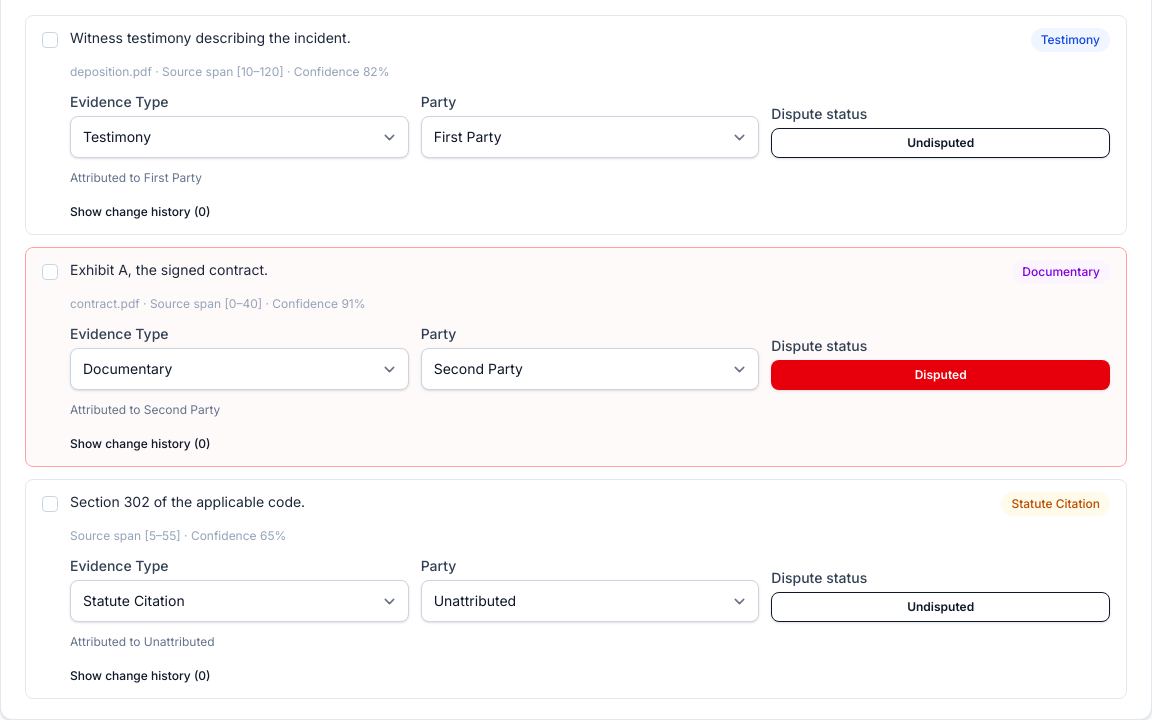
EvidenceReviewPanel › reassigns a segment to a different party
(page scrolled)
Select "First Party" in the dropdown labelled "Party" below "55" at (590, 601), box [421,580,759,622]
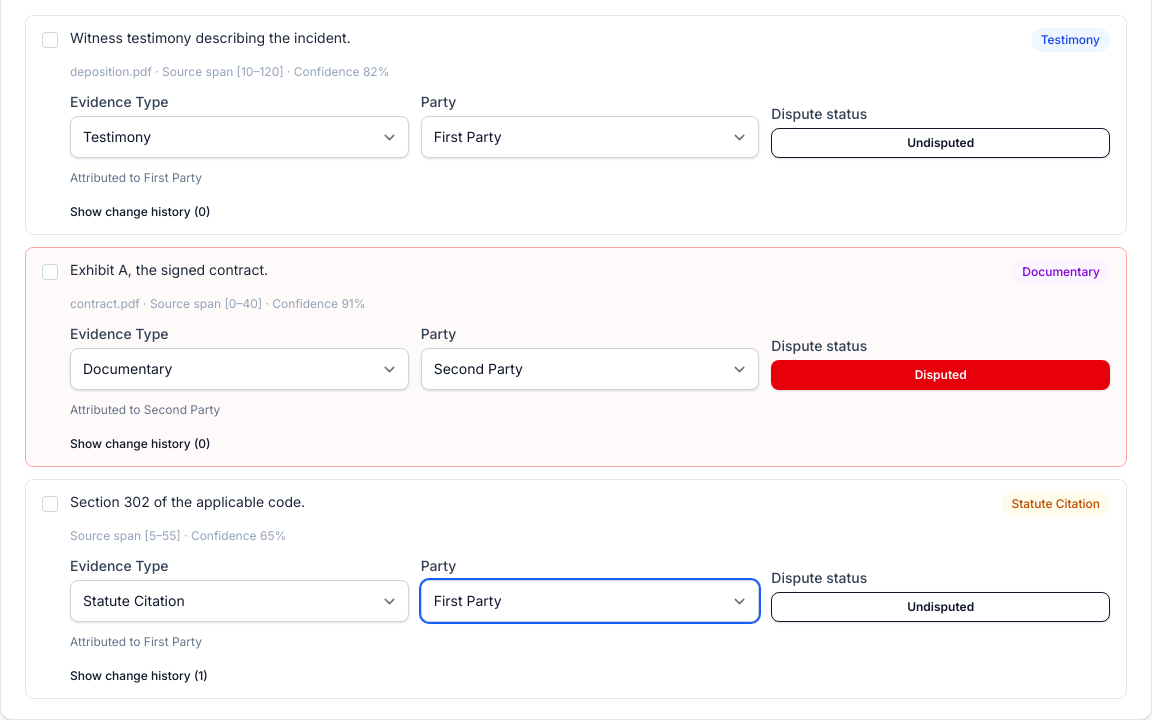
Expected: the text "Attributed to First Party" below "55" is shown, [70,634,202,650]
